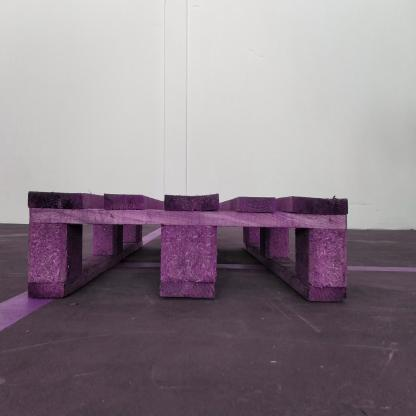BoxFace: (24, 188, 350, 308)
